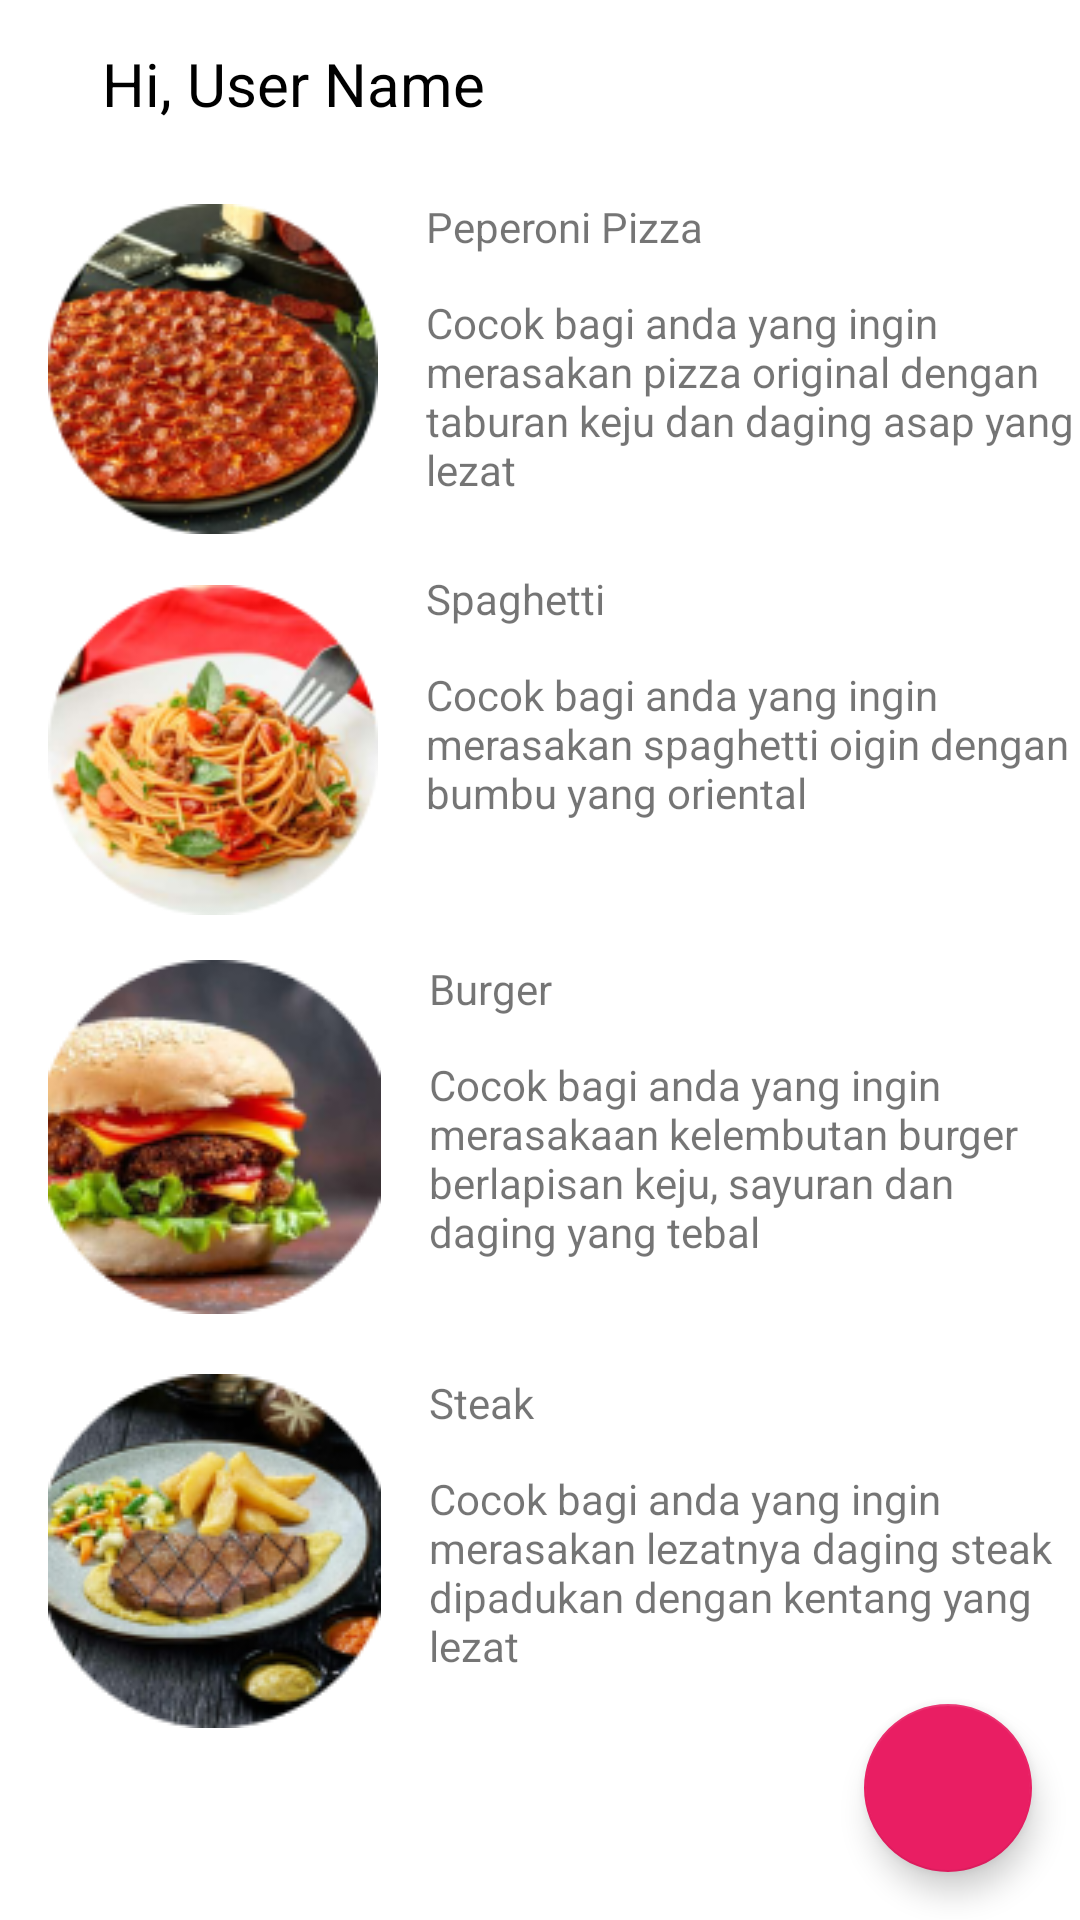

Named icons in this screenshot (1080w x 1920h) and their bounding boxes, (x1, y1, x2, y2):
circle cropped: (48, 204, 378, 534), (51, 585, 376, 915), (48, 960, 381, 1314), (48, 1374, 381, 1728)
